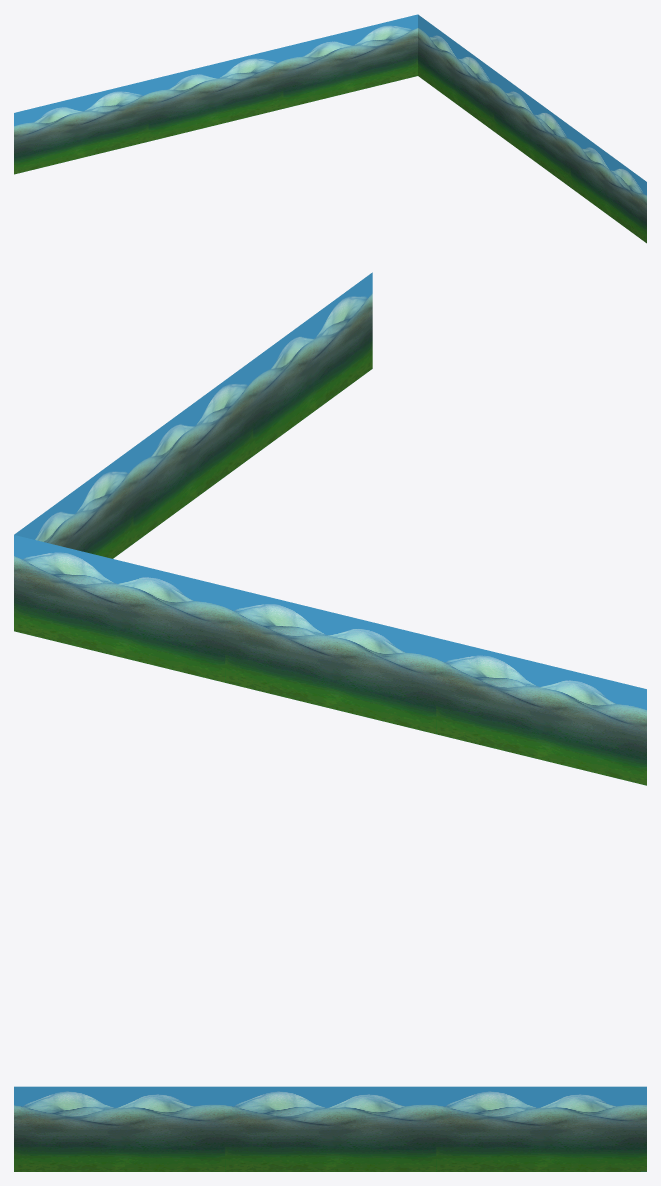
Rendered from 2D_Trees_03.glb.
The picture shows the model from 3 angles, top to bottom: view 1: azimuth 30°, elevation 25°; view 2: azimuth 150°, elevation 25°; view 3: azimuth 270°, elevation 25°; orthographic projection. The views are drawn at different scales.
Parts seen in each view (by area): view 1: 2D_Trees_03; view 2: 2D_Trees_03; view 3: 2D_Trees_03.
Part boxes in pixels (<box>): 2D_Trees_03: <box>14,14,646,243</box>; 2D_Trees_03: <box>14,272,646,785</box>; 2D_Trees_03: <box>14,1086,646,1171</box>.
Size of the model in its own units: 16126 by 2351 by 15829.
1 material, 1 textured.
